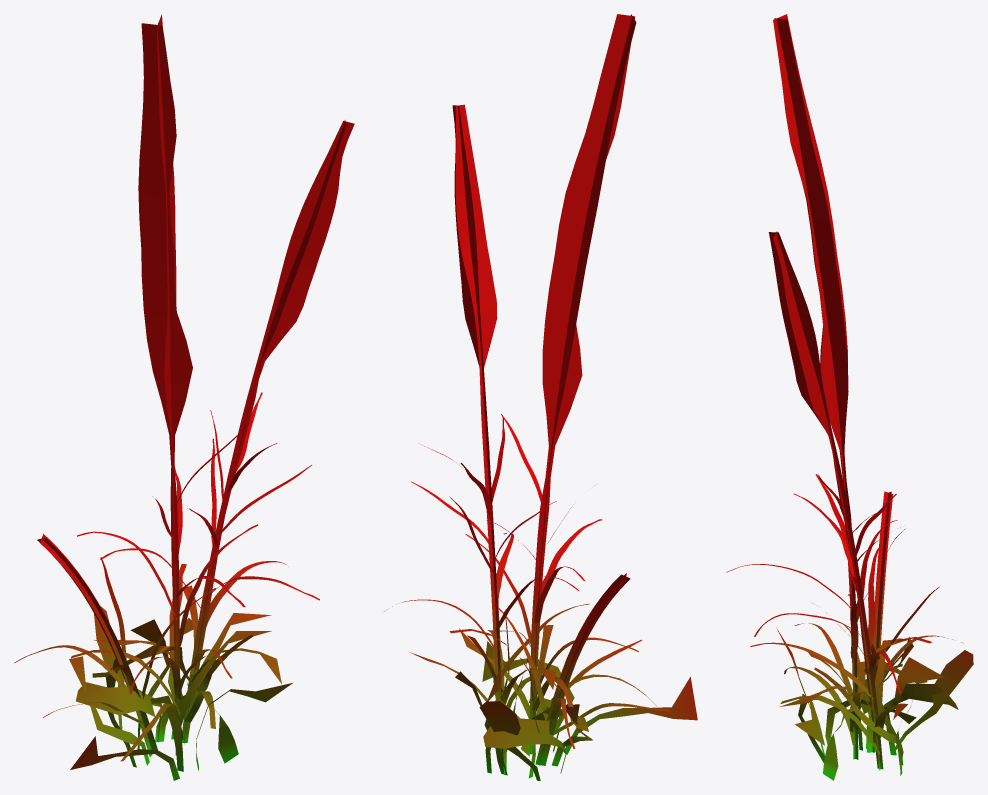
Rendered from slBjG_Var5_LOD0.fbx.
3 renders of one model, left to right at view 1: azimuth 30°, elevation 25°; view 2: azimuth 150°, elevation 25°; view 3: azimuth 270°, elevation 25°, orthographic. The views are drawn at different scales.
Parts seen in each view (by area): view 1: _fa54_Var5_LOD0; view 2: _fa54_Var5_LOD0; view 3: _fa54_Var5_LOD0.
Boxes of the visible parts, left/top/right/bottom form: _fa54_Var5_LOD0: left=14, top=14, right=354, bottom=780; _fa54_Var5_LOD0: left=384, top=14, right=697, bottom=780; _fa54_Var5_LOD0: left=726, top=14, right=973, bottom=780.
Bounding box in the file's own units: 18.74 × 50.68 × 15.71.
